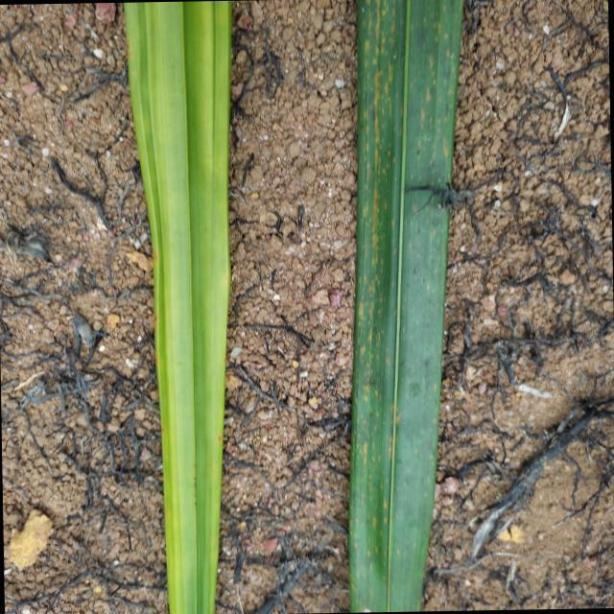nitrogen: (120, 0, 227, 614), (356, 0, 460, 612)
